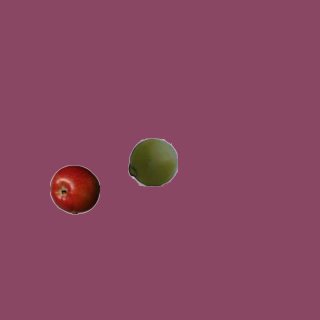Apple Braeburn: (49, 164, 99, 214)
Grape White 4: (127, 136, 177, 186)
